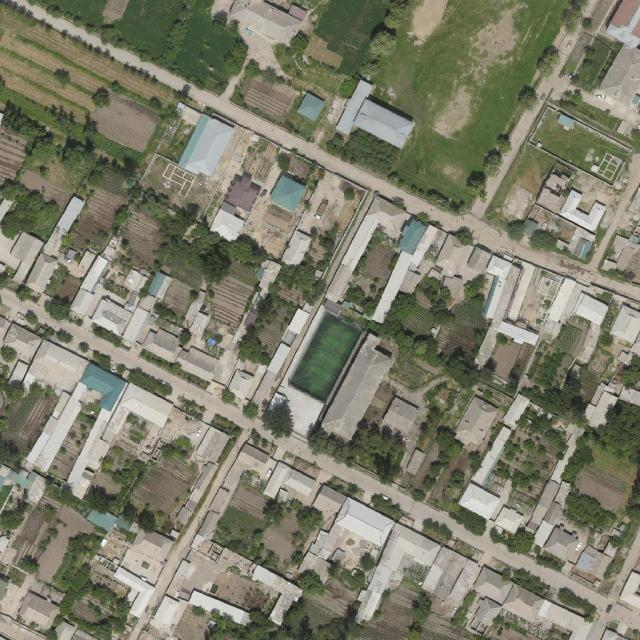agricultural_land: (531, 108, 632, 187), (531, 110, 632, 186), (482, 142, 557, 237), (288, 311, 363, 403), (126, 444, 203, 524), (202, 124, 257, 225), (71, 166, 136, 251), (209, 481, 277, 558), (348, 580, 435, 640), (236, 67, 299, 123), (257, 509, 314, 566), (570, 462, 631, 515), (201, 272, 255, 328), (236, 134, 281, 184), (158, 162, 197, 199), (493, 609, 533, 636), (404, 448, 428, 477), (336, 617, 349, 640), (536, 629, 546, 639)
building: (322, 194, 412, 315), (355, 522, 443, 640), (320, 333, 400, 444), (21, 377, 93, 479), (62, 407, 124, 501), (102, 382, 175, 461), (527, 433, 584, 532), (157, 408, 231, 469), (21, 339, 89, 405), (226, 0, 308, 48), (177, 113, 234, 181), (352, 94, 418, 149), (119, 523, 178, 584), (371, 250, 415, 325), (530, 480, 577, 550), (334, 496, 397, 548), (173, 460, 219, 526), (263, 461, 318, 513), (470, 425, 516, 487), (451, 396, 500, 452), (74, 362, 127, 413), (420, 545, 468, 601), (188, 588, 252, 628), (333, 77, 375, 137), (426, 548, 469, 604), (431, 233, 476, 282), (559, 188, 608, 232), (173, 342, 221, 383), (90, 295, 134, 337), (223, 168, 265, 212), (381, 396, 424, 438), (572, 544, 614, 587), (471, 566, 514, 607), (141, 324, 185, 364), (457, 482, 502, 521), (445, 558, 483, 604), (545, 276, 578, 326), (466, 595, 503, 638), (268, 173, 307, 213), (586, 389, 620, 433), (542, 526, 581, 563), (393, 216, 428, 257), (495, 320, 540, 350), (209, 209, 246, 244), (572, 293, 610, 327), (54, 195, 86, 234), (481, 274, 507, 321), (150, 595, 182, 633), (499, 392, 531, 430), (80, 254, 110, 294), (250, 564, 288, 592), (265, 341, 292, 376), (296, 90, 326, 121), (226, 368, 254, 400), (86, 504, 118, 532), (467, 243, 494, 275), (0, 229, 21, 269), (69, 288, 96, 318), (485, 255, 513, 281), (286, 307, 311, 336), (7, 359, 30, 388), (265, 202, 295, 224), (554, 114, 576, 132)
dryland: (87, 87, 162, 156)
greenland: (337, 0, 574, 213), (158, 202, 273, 300), (0, 99, 115, 195), (304, 399, 415, 487), (302, 0, 393, 79), (231, 281, 303, 372), (0, 175, 66, 254), (526, 369, 597, 442), (42, 522, 106, 592), (295, 571, 363, 635), (432, 297, 493, 365), (461, 127, 516, 202), (557, 484, 619, 543), (587, 395, 640, 463), (273, 249, 335, 306), (569, 30, 623, 95), (340, 126, 402, 180), (557, 86, 624, 133), (410, 271, 465, 326), (51, 561, 100, 620), (96, 443, 149, 494), (154, 194, 206, 245), (39, 474, 96, 517), (14, 591, 61, 635), (508, 564, 558, 602), (424, 421, 467, 465), (81, 481, 121, 519), (399, 302, 438, 340), (78, 612, 130, 640), (530, 43, 567, 82), (135, 186, 175, 222), (0, 496, 35, 536), (406, 591, 434, 640), (290, 501, 327, 538), (503, 524, 539, 561), (293, 566, 327, 602), (459, 271, 493, 303), (87, 580, 120, 609), (133, 506, 164, 536), (368, 28, 397, 59), (528, 227, 559, 253), (262, 498, 286, 527), (621, 355, 640, 387), (517, 84, 540, 110), (118, 501, 142, 524), (506, 220, 526, 241)
unmetalled_road: (309, 448, 509, 570), (11, 0, 186, 93), (186, 80, 340, 175), (127, 355, 257, 442), (469, 99, 543, 219), (461, 530, 573, 602), (0, 286, 98, 357), (341, 160, 436, 222), (276, 427, 322, 464), (108, 338, 143, 370), (94, 337, 115, 358), (327, 159, 344, 175), (93, 337, 100, 341)
